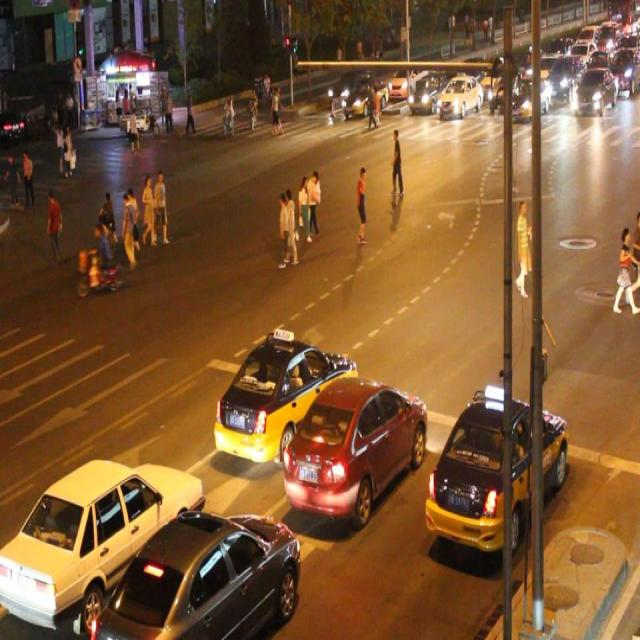car: (1, 455, 204, 626), (98, 506, 299, 640), (422, 390, 566, 550), (287, 379, 423, 522), (215, 333, 355, 463), (435, 71, 481, 116), (344, 76, 385, 118), (408, 72, 444, 113)
